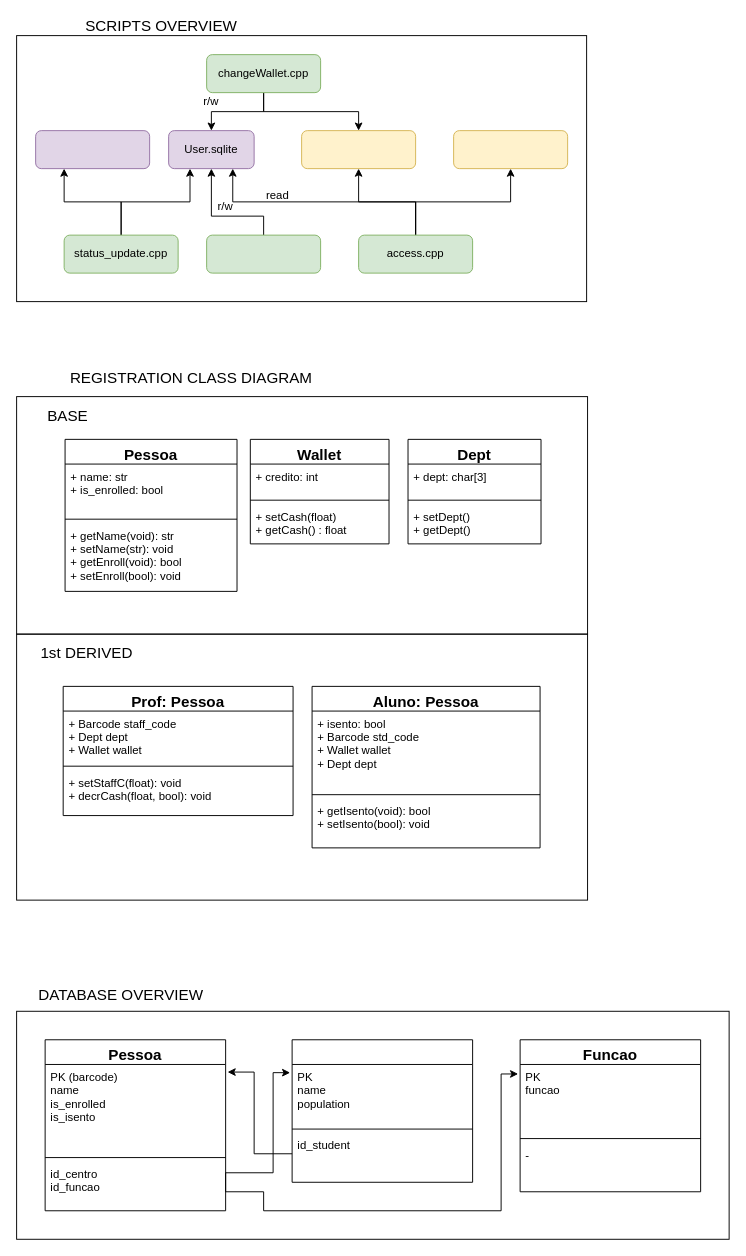
This 746x1256 diagram has some shape labels left out. Each missing label, with the box of its shape:
Access Gate: (453, 130, 568, 169)
Barcode Scanner: (301, 130, 416, 169)
Centro: (291, 1039, 473, 1182)
FormerUsr.sqlite: (35, 130, 150, 169)
registration.cpp: (206, 234, 321, 273)
